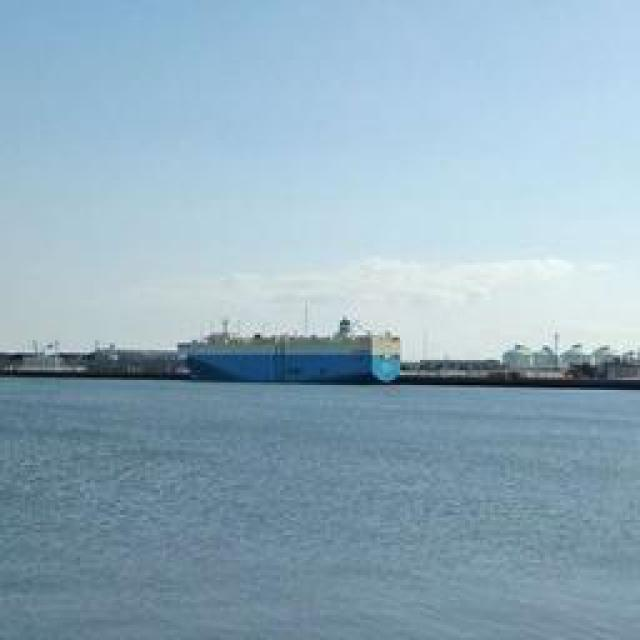Ship: (181, 332, 404, 385)
